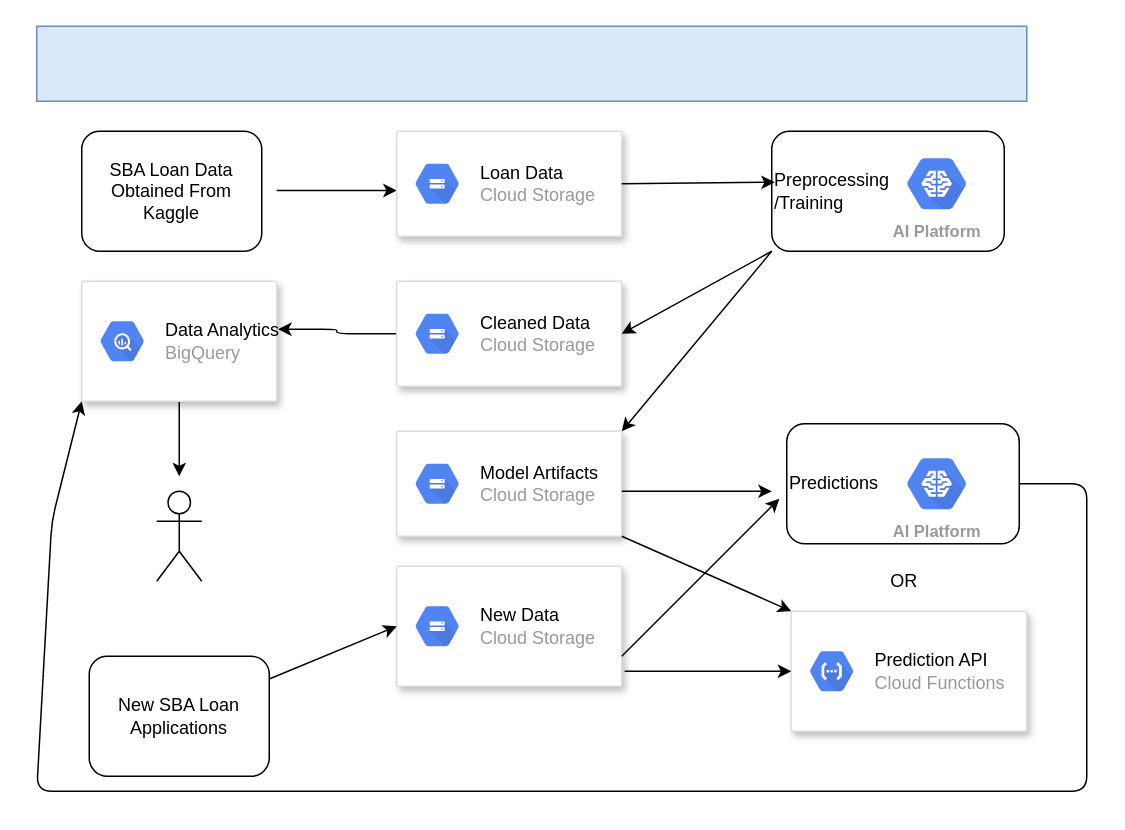
Image size: 1125x830. Some labels were removed from this diagram. The centre of each missing label's shape, as x and y in pixels:
"Cloud Architecture" belongs at point (531, 63).
"SBA Risk Manager/Loan Officer" belongs at point (178, 535).
